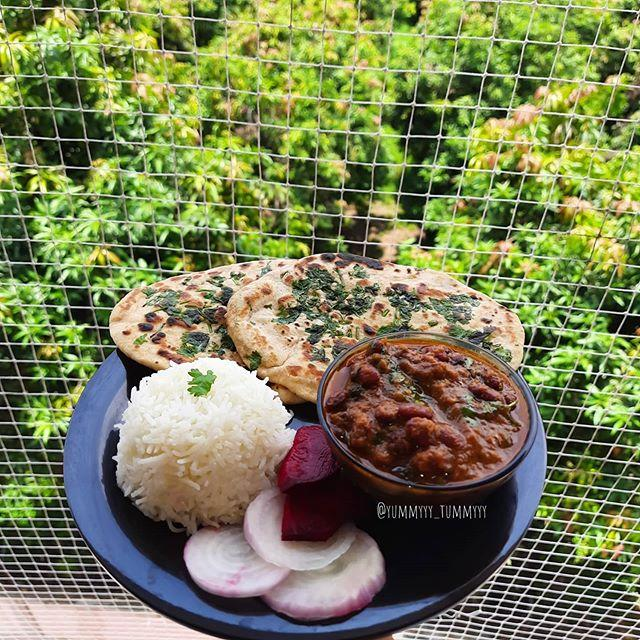Lobia Curry: (330, 337, 524, 478)
Roti: (219, 242, 563, 394)
White Rice: (107, 354, 287, 530)
